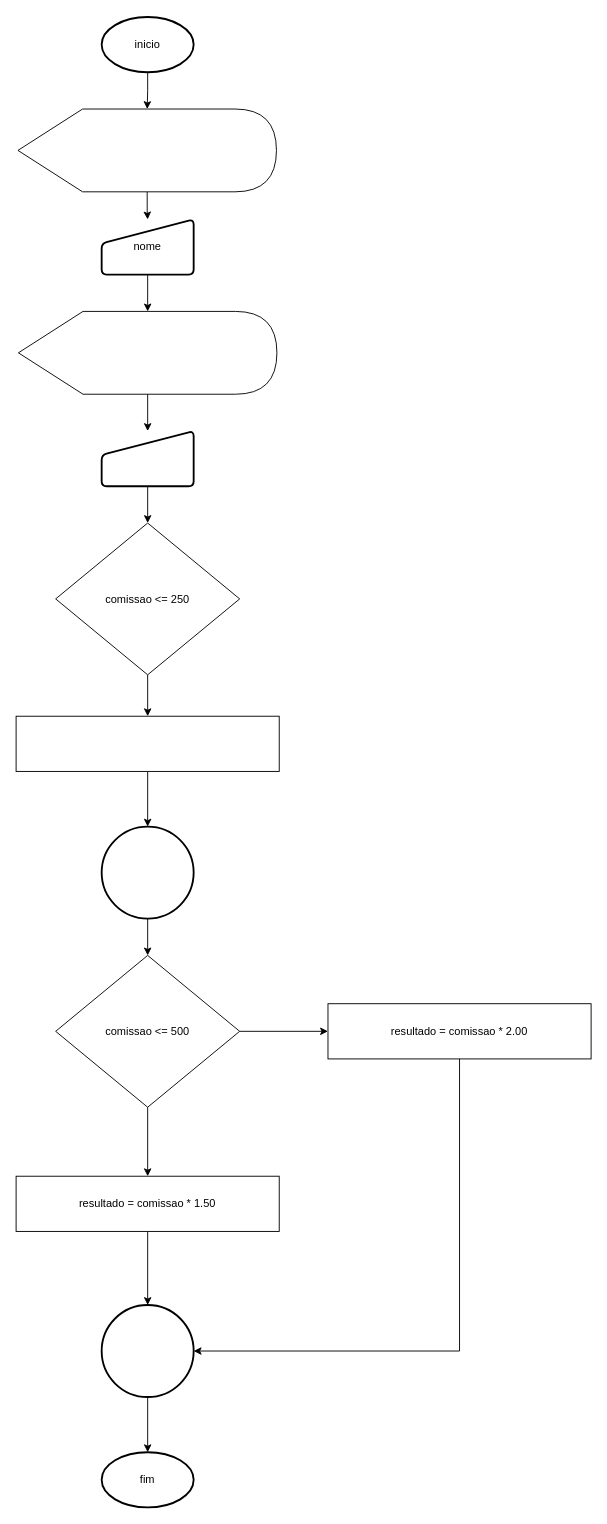
This 607x1524 diagram has some shape labels left out. Here are the shapes that lost their labels. From the top down, the centre of each, then its label:
At (146,150): "Digite o nome do fúncionario".
At (147,352): "Digite quantos produtos ele vendeu".
At (147,458): "comissao".
At (147,743): "resultado = comissao * 1.00".
